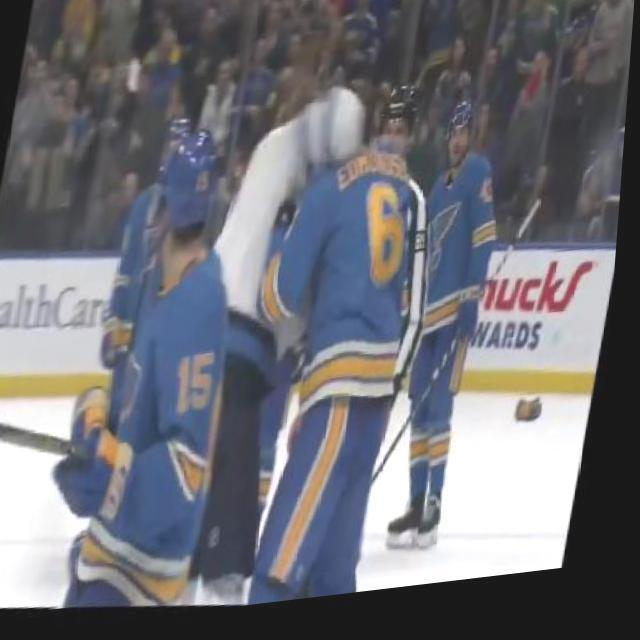fight: (182, 61, 454, 486)
